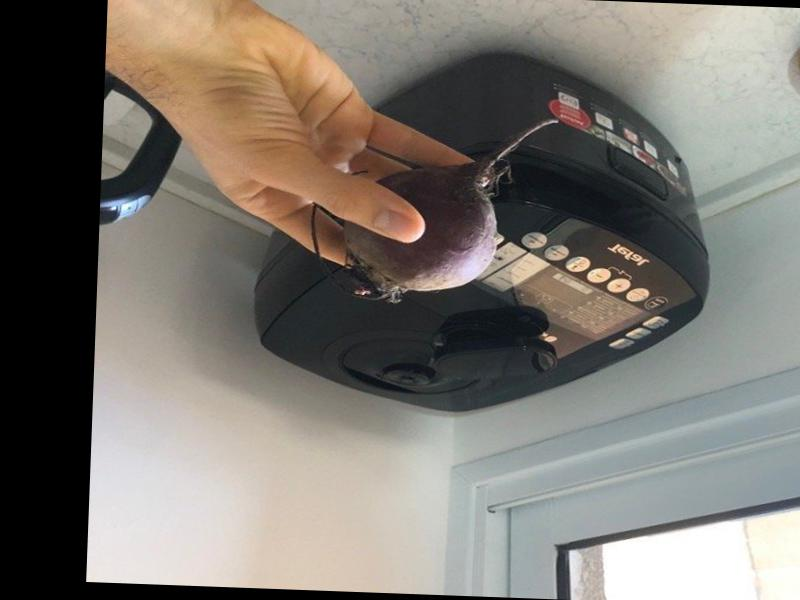Beet: (311, 106, 558, 308)
